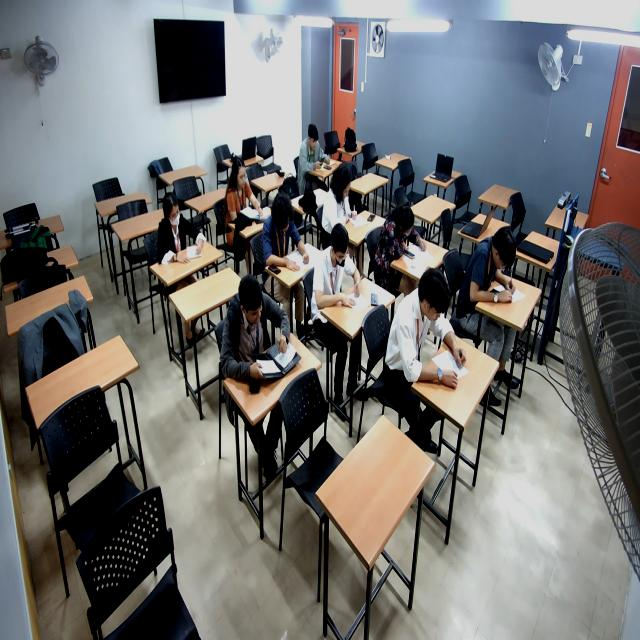read: (400, 275, 473, 399), (223, 279, 293, 398), (315, 232, 371, 324), (265, 198, 316, 288), (152, 198, 211, 274), (473, 229, 521, 318), (224, 161, 272, 230), (380, 207, 431, 266), (329, 177, 366, 232), (302, 129, 336, 179)
